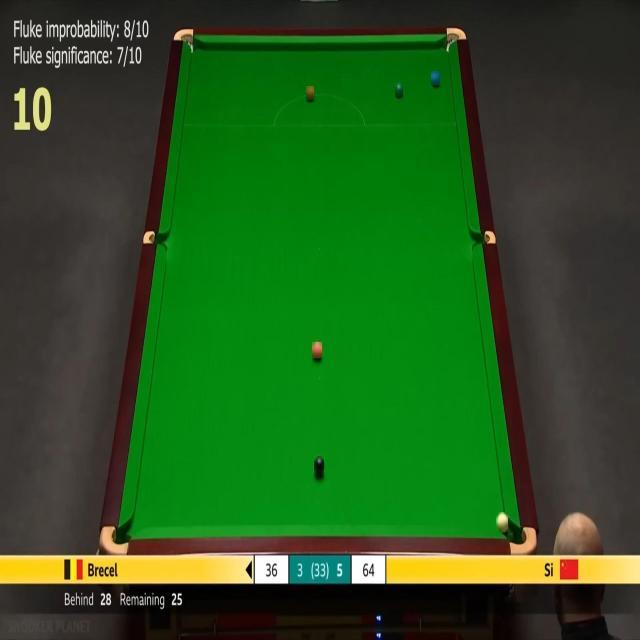Ball: (496, 512, 508, 532), (314, 456, 324, 474), (312, 342, 322, 358), (306, 86, 314, 100), (395, 83, 403, 96), (432, 71, 439, 85)
